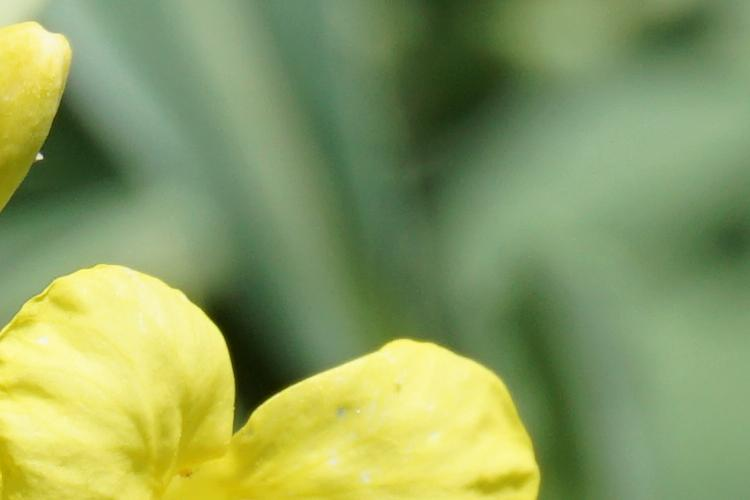bud: (5, 16, 77, 202)
yellow: (20, 270, 542, 497)
